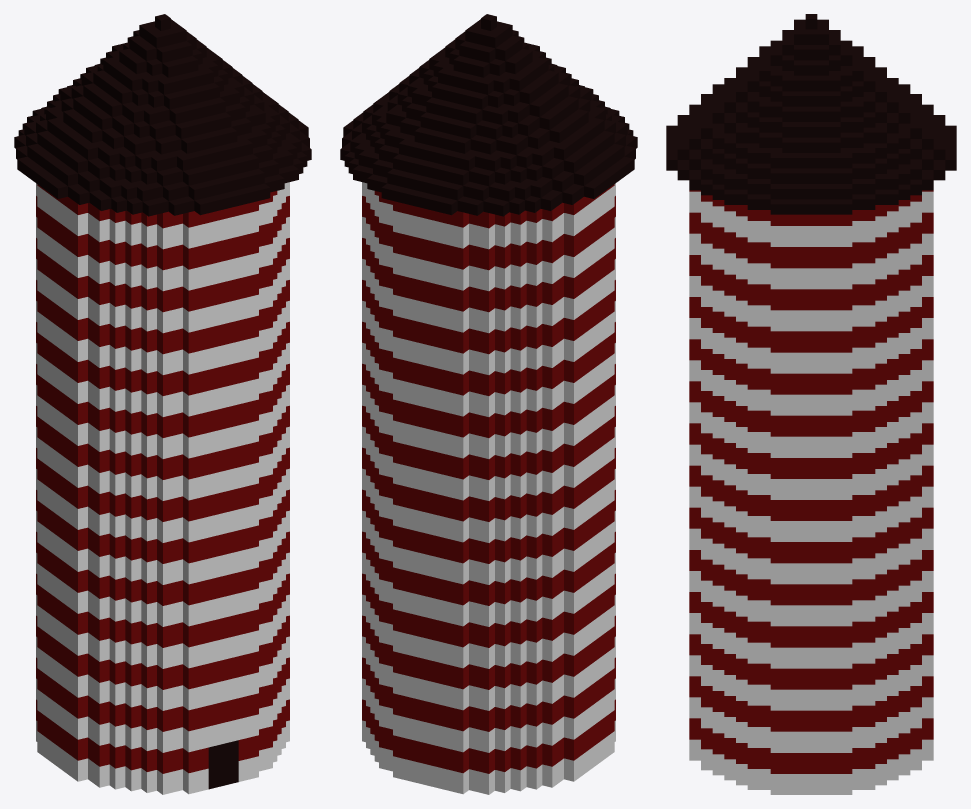
The model's file is lighthouse.obj.
The picture shows the model from 3 angles, left to right: view 1: azimuth 30°, elevation 25°; view 2: azimuth 150°, elevation 25°; view 3: azimuth 270°, elevation 25°; orthographic projection.
Parts seen in each view (by area): view 1: lighthouse; view 2: lighthouse; view 3: lighthouse.
Boxes of the visible parts, x1=… form: lighthouse: x1=14, y1=14, x2=311, y2=794; lighthouse: x1=340, y1=14, x2=637, y2=794; lighthouse: x1=666, y1=14, x2=956, y2=794.
Bounding box in the file's own units: 25 × 69 × 25.
1 material, 1 textured.
